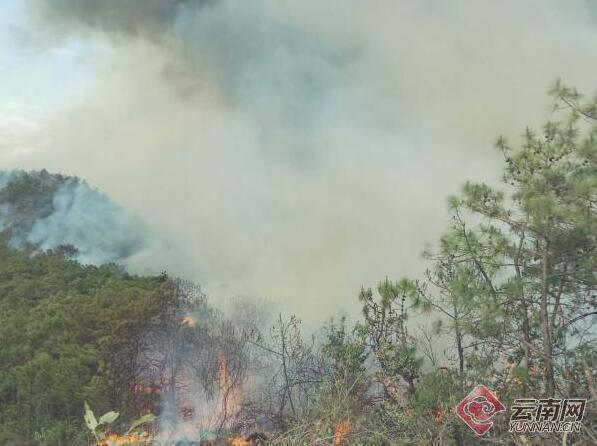fire: (205, 348, 254, 422), (95, 424, 154, 443), (319, 406, 354, 438), (224, 429, 253, 444), (428, 403, 451, 420)
